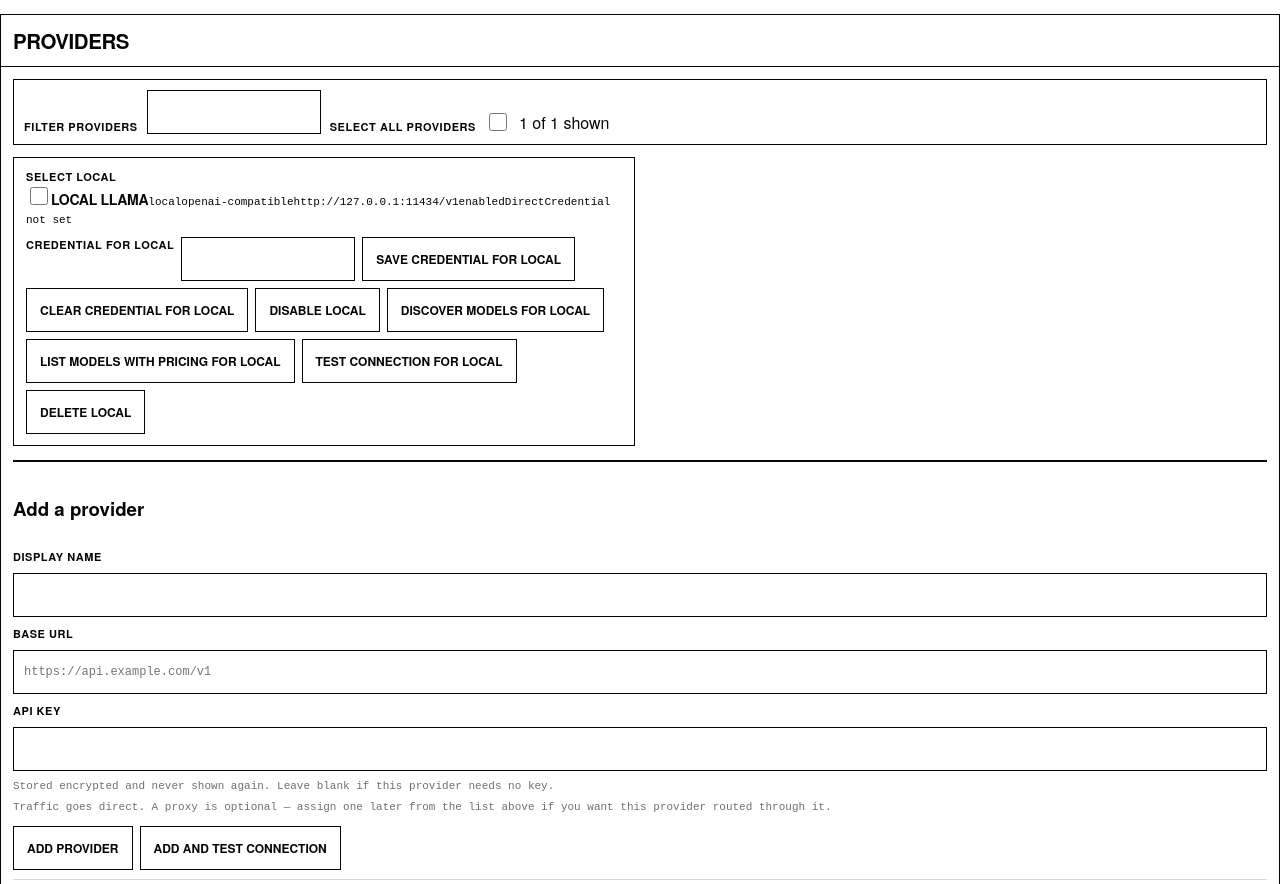
Test: ProvidersPanel › renders discovered models
expect the text "Local Llama" is shown: met, box x1=51 y1=189 x2=148 y2=209
Click the button "Discover models for local" at (495, 310), box x1=387 y1=288 x2=604 y2=332
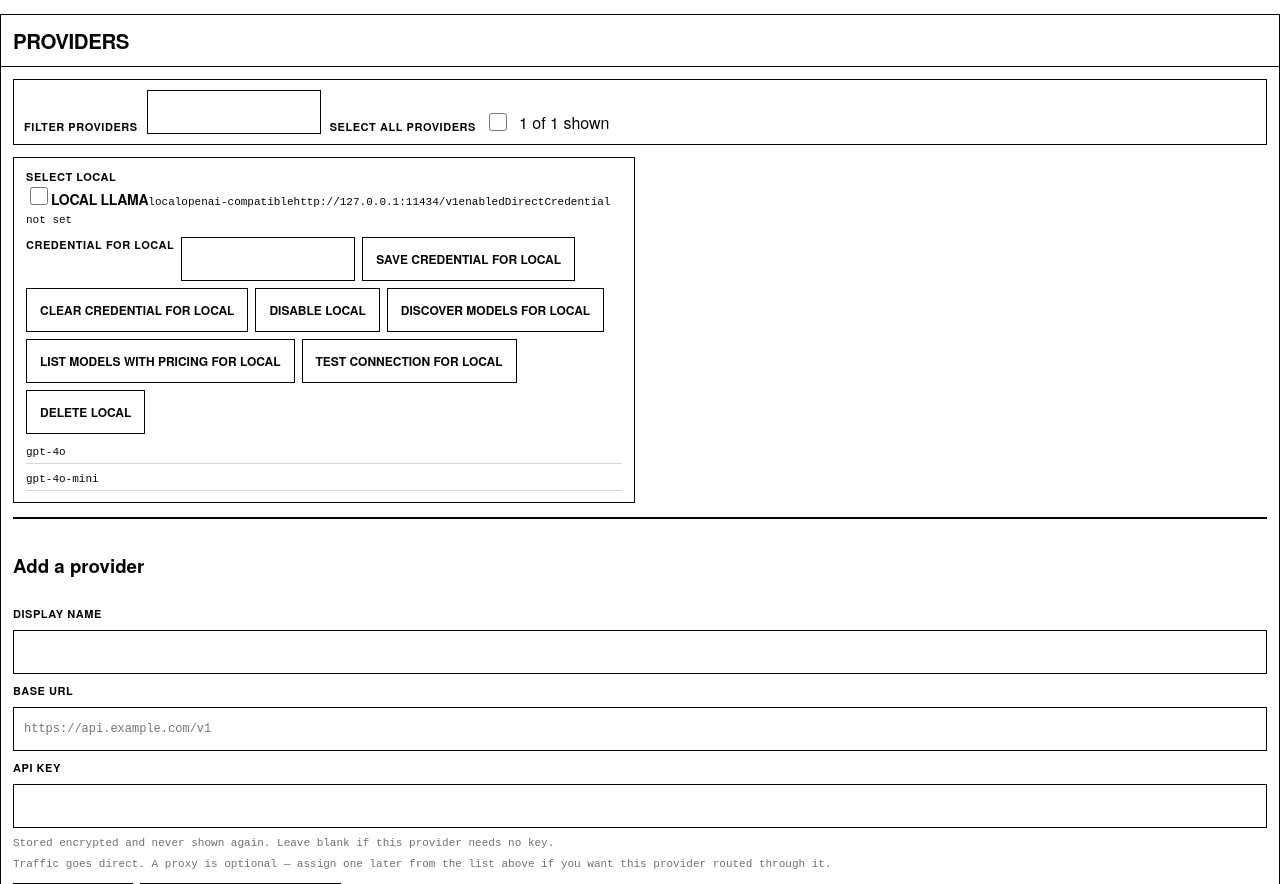
expect the list item "gpt-4o" is shown: met, box x1=26 y1=441 x2=622 y2=464
expect the list item "gpt-4o-mini" is shown: met, box x1=26 y1=468 x2=622 y2=491
